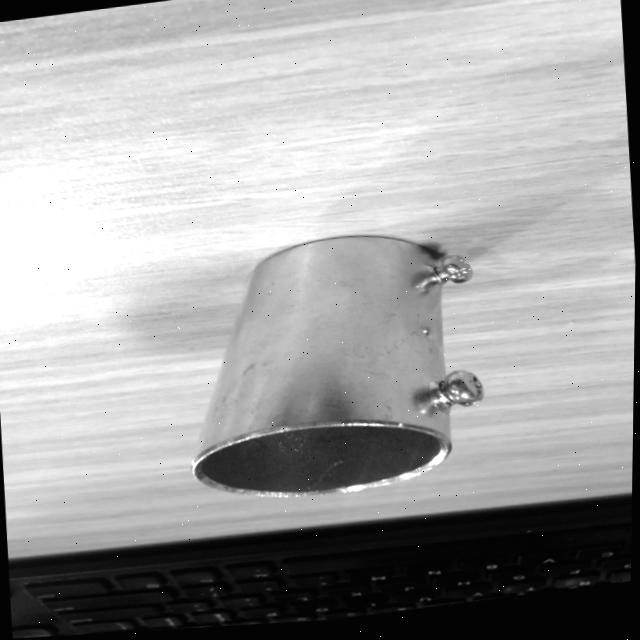Co_Nho: (175, 228, 489, 503)
